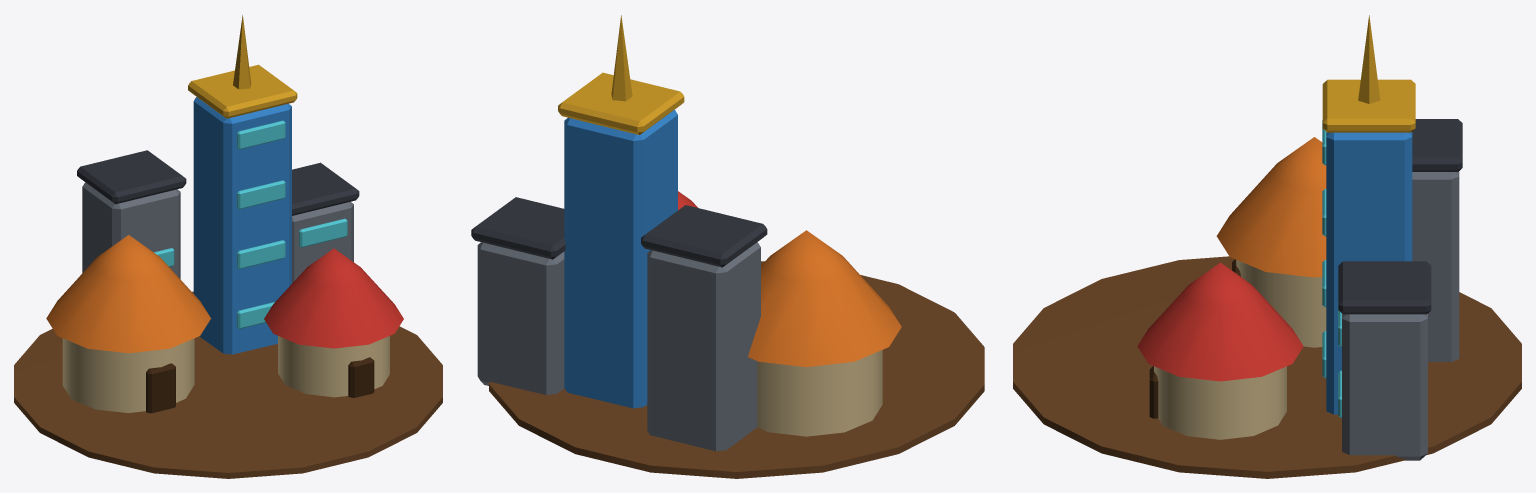
The picture shows the model from 3 angles, left to right: view 1: azimuth 30°, elevation 25°; view 2: azimuth 150°, elevation 25°; view 3: azimuth 270°, elevation 25°; orthographic projection. The views are drawn at different scales.
Parts seen in each view (by area): view 1: vila_0_base, vila_1_torreta; view 2: vila_0_base, vila_1_torreta; view 3: vila_0_base, vila_1_torreta.
Boxes of the visible parts, box(x1,y1,x2,y2) form: vila_0_base: box(14, 64, 442, 478); vila_1_torreta: box(233, 15, 251, 89); vila_0_base: box(471, 72, 984, 478); vila_1_torreta: box(611, 15, 632, 101); vila_0_base: box(1013, 79, 1521, 478); vila_1_torreta: box(1358, 15, 1380, 103).
Bounding box in the file's own units: 1.32 × 1.1 × 1.3.
